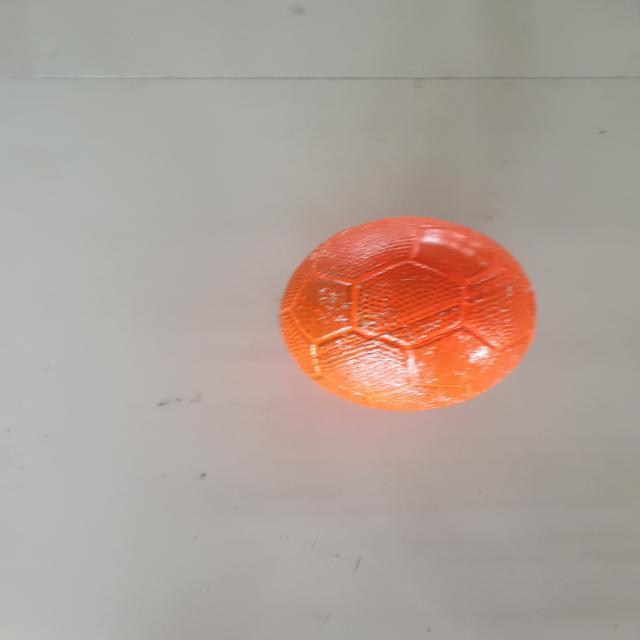bola: (274, 214, 542, 416)
